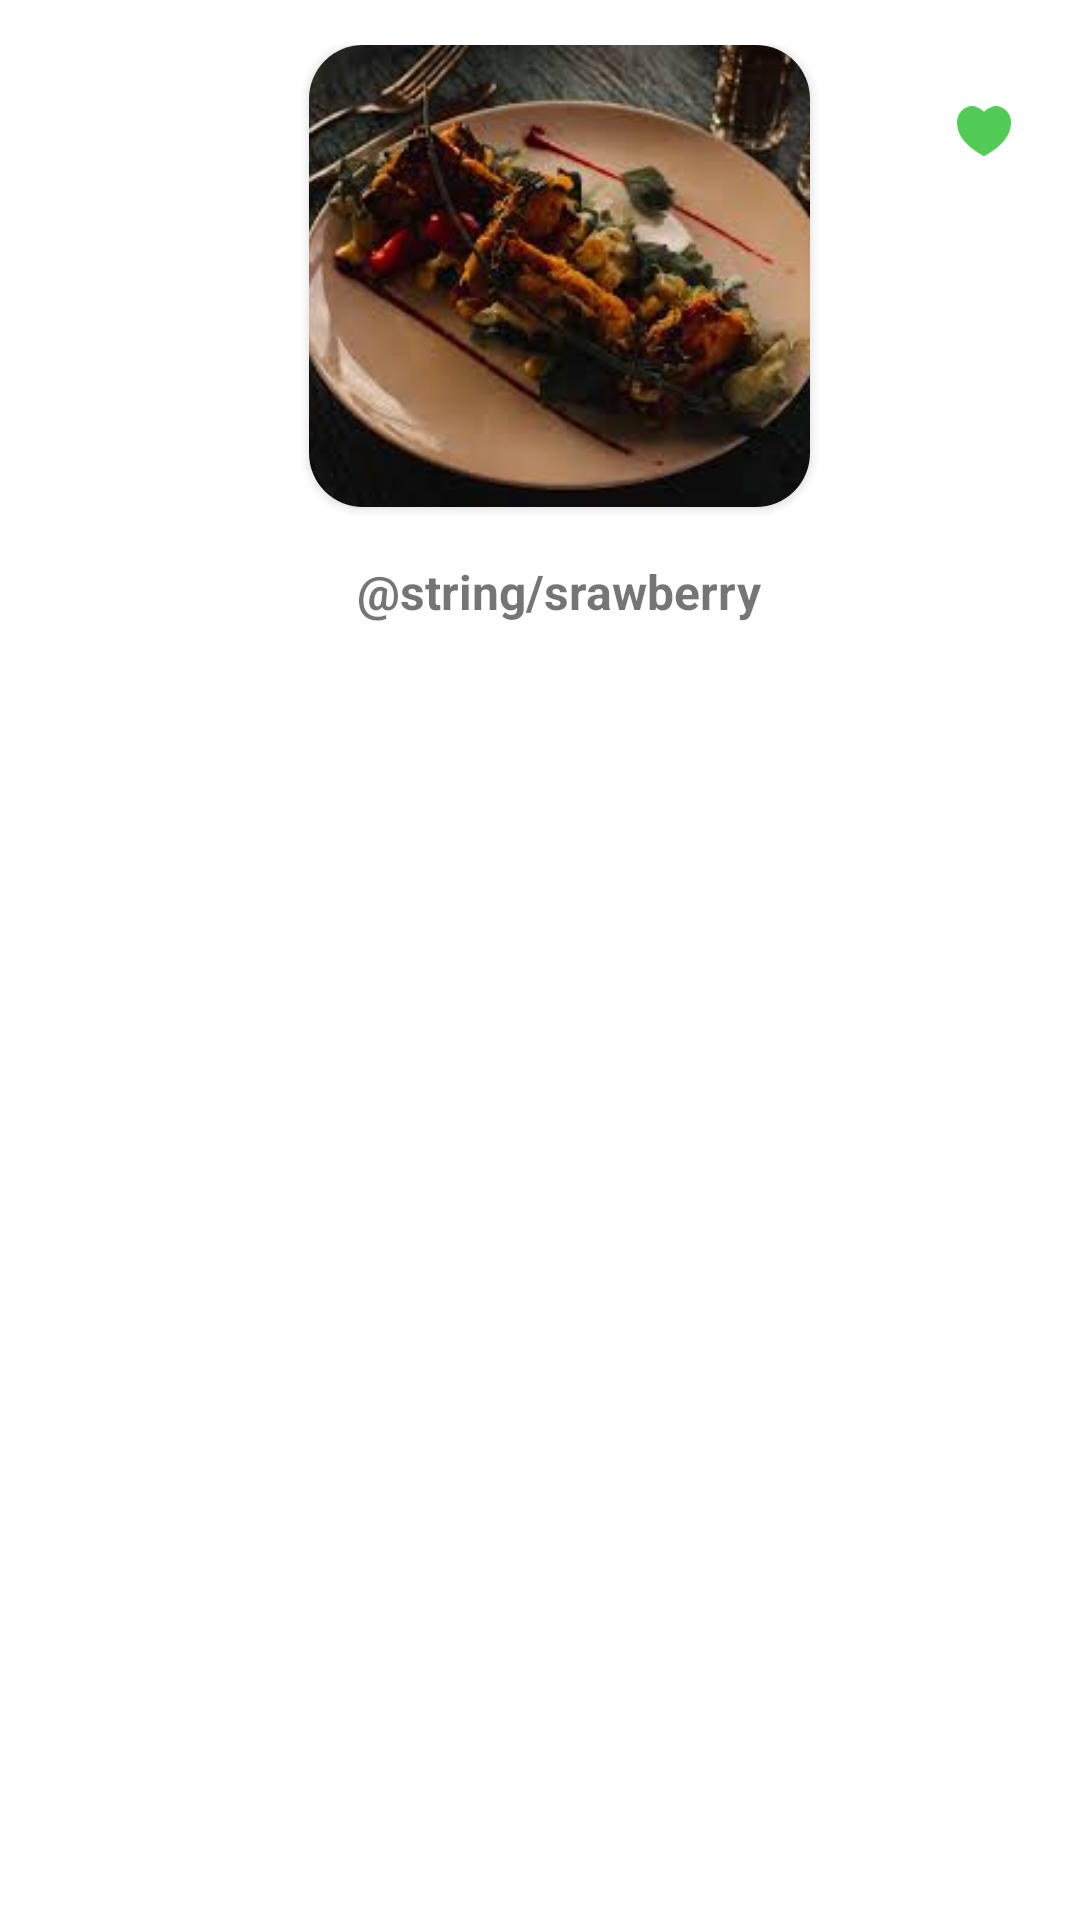

Icon bounding boxes for this 1080px×1920px phone screenshot, format box=[x1, y1, x2, y2]:
heart: box=[957, 106, 1011, 157]
